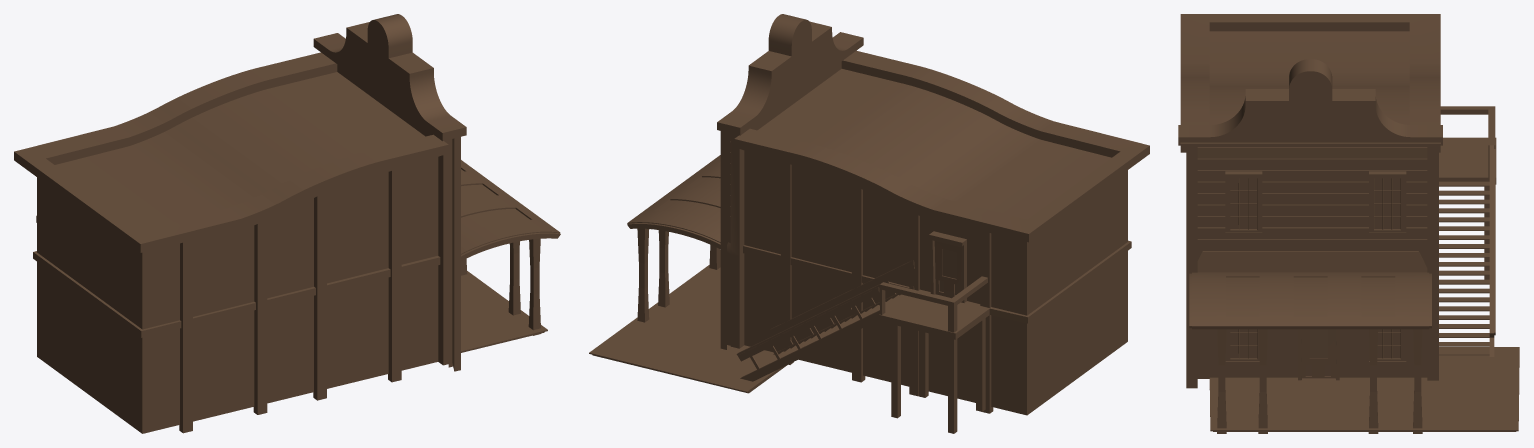
File: gen_building.fbx
3 views of the same model, side by side, from view 1: azimuth 30°, elevation 25°; view 2: azimuth 150°, elevation 25°; view 3: azimuth 270°, elevation 25° (orthographic). The views are drawn at different scales.
Parts seen in each view (by area): view 1: gen_building; view 2: gen_building; view 3: gen_building.
Boxes of the visible parts, <box> form: gen_building: <box>14,14,560,433</box>; gen_building: <box>589,14,1149,433</box>; gen_building: <box>1178,14,1519,433</box>.
Bounding box in the file's own units: 28.11 × 19.64 × 19.03.
